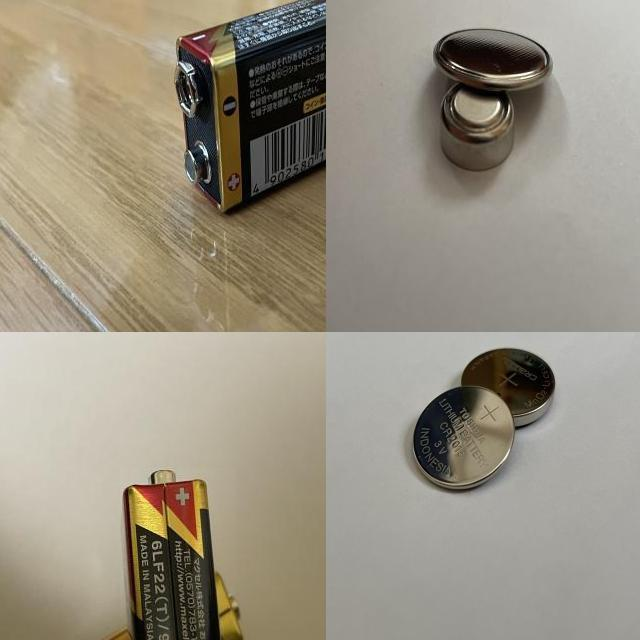9V: (174, 0, 326, 213), (120, 468, 236, 640), (44, 569, 243, 640)
